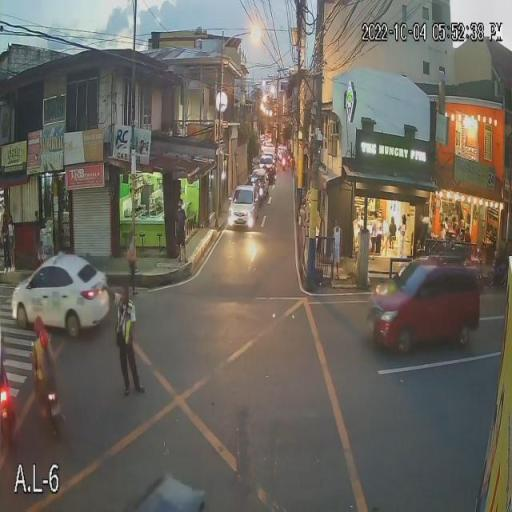helmet: (38, 332, 53, 354), (30, 317, 44, 336)
motorcycle: (27, 366, 66, 444)
rider: (26, 318, 47, 383), (38, 333, 58, 395)
